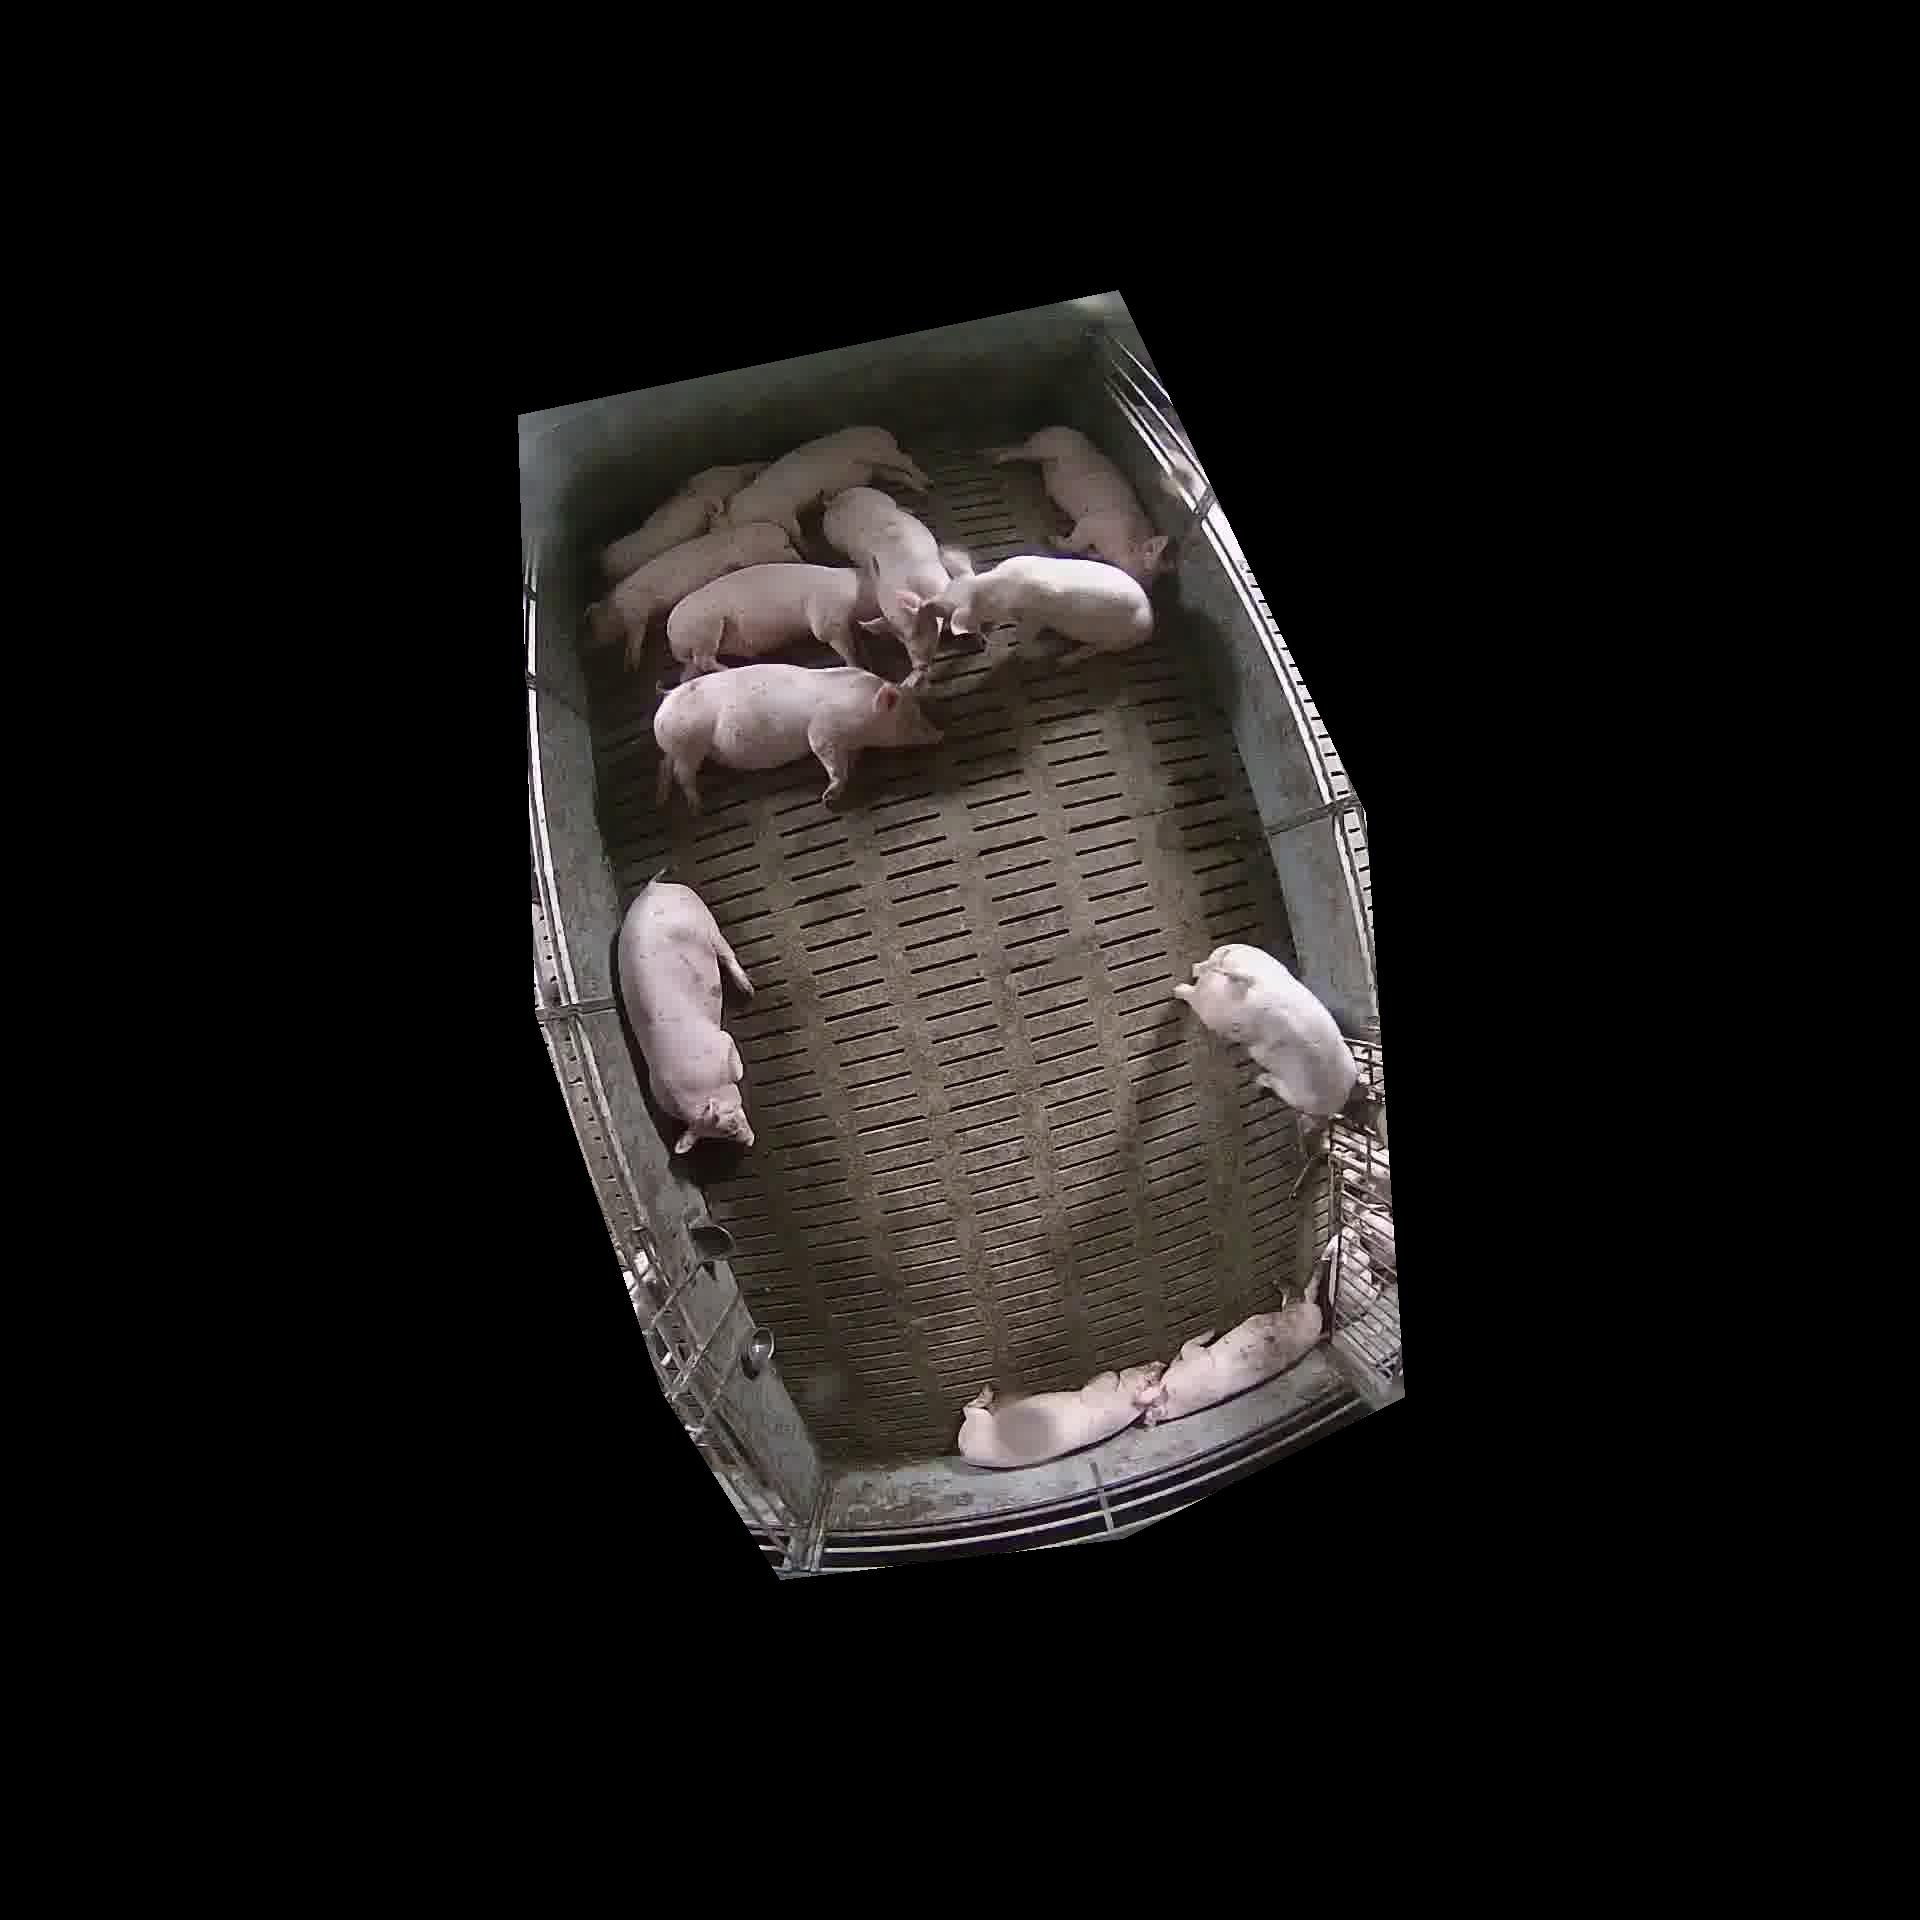pig: (654, 665, 941, 812), (617, 881, 753, 1153), (1175, 944, 1357, 1134), (587, 522, 800, 668), (985, 425, 1167, 585), (935, 545, 1153, 665), (823, 487, 949, 687), (666, 563, 879, 679), (726, 425, 928, 542), (1143, 1299, 1322, 1424), (958, 1363, 1162, 1466), (600, 462, 763, 580)
